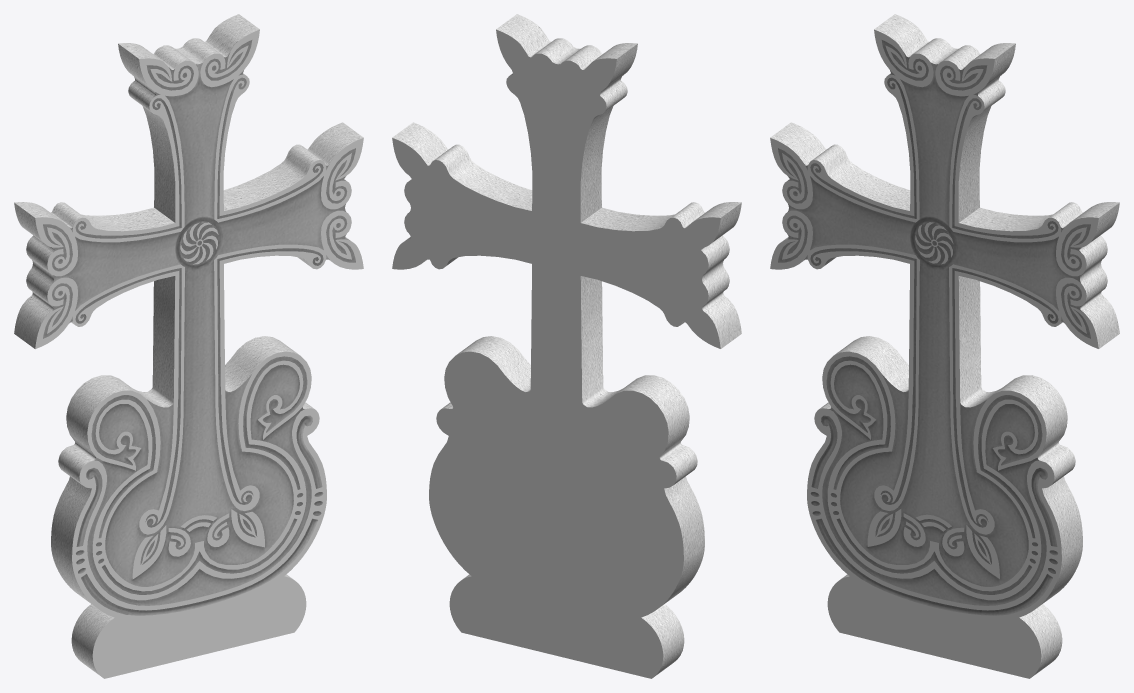
Rendered from cnc1c47c0436_tkf.glb.
The picture shows the model from 3 angles, left to right: view 1: azimuth 30°, elevation 25°; view 2: azimuth 150°, elevation 25°; view 3: azimuth 330°, elevation 25°; orthographic projection.
Parts seen in each view (by area): view 1: Pam-d02-097_2_notexture, Pam-d02-097; view 2: Pam-d02-097, Pam-d02-097_2_notexture; view 3: Pam-d02-097_2_notexture, Pam-d02-097.
Boxes of the visible parts, <box> form: Pam-d02-097_2_notexture: <box>14,14,363,677</box>; Pam-d02-097: <box>35,29,363,678</box>; Pam-d02-097: <box>392,29,720,678</box>; Pam-d02-097_2_notexture: <box>392,14,741,677</box>; Pam-d02-097_2_notexture: <box>770,14,1119,677</box>; Pam-d02-097: <box>770,29,1098,678</box>.
Bounding box in the file's own units: 0.45 × 0.8 × 0.05.
1 material, 1 textured.
